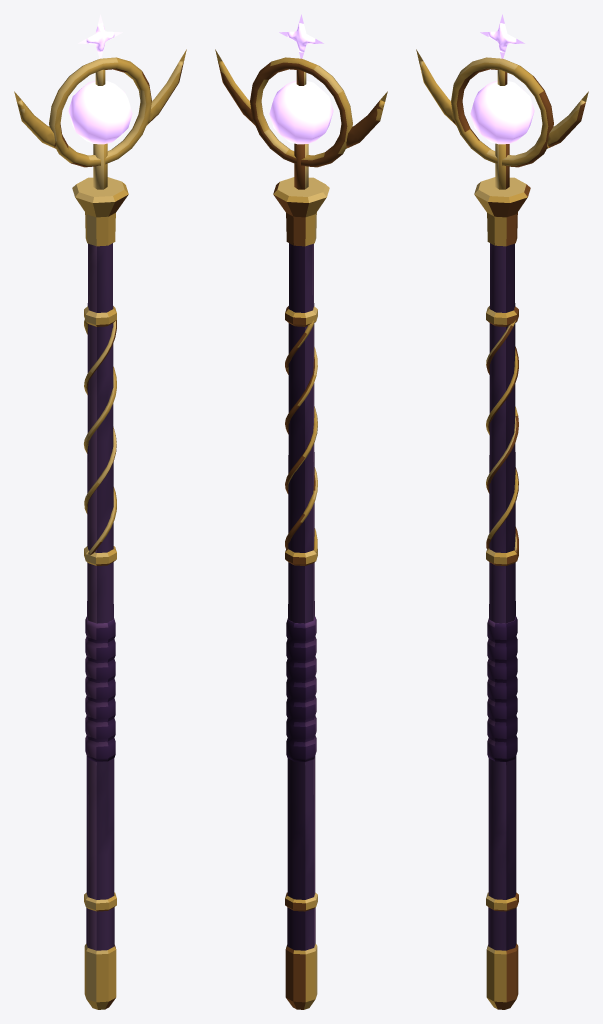
Rendered from st_archmage_staff.glb.
3 views of the same model, side by side, from view 1: azimuth 30°, elevation 25°; view 2: azimuth 150°, elevation 25°; view 3: azimuth 330°, elevation 25° (orthographic).
Visible parts, largest first — view 1: Weapon; view 2: Weapon; view 3: Weapon.
Part boxes in pixels (x1,y1,x2,y2): Weapon: (14, 14, 186, 1009); Weapon: (215, 14, 387, 1009); Weapon: (416, 14, 588, 1009).
Size of the model in its own units: 0.34 by 1.87 by 0.1046.
